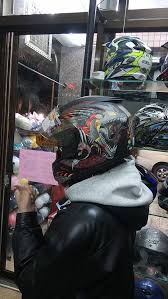helmet: (45, 102, 139, 171)
